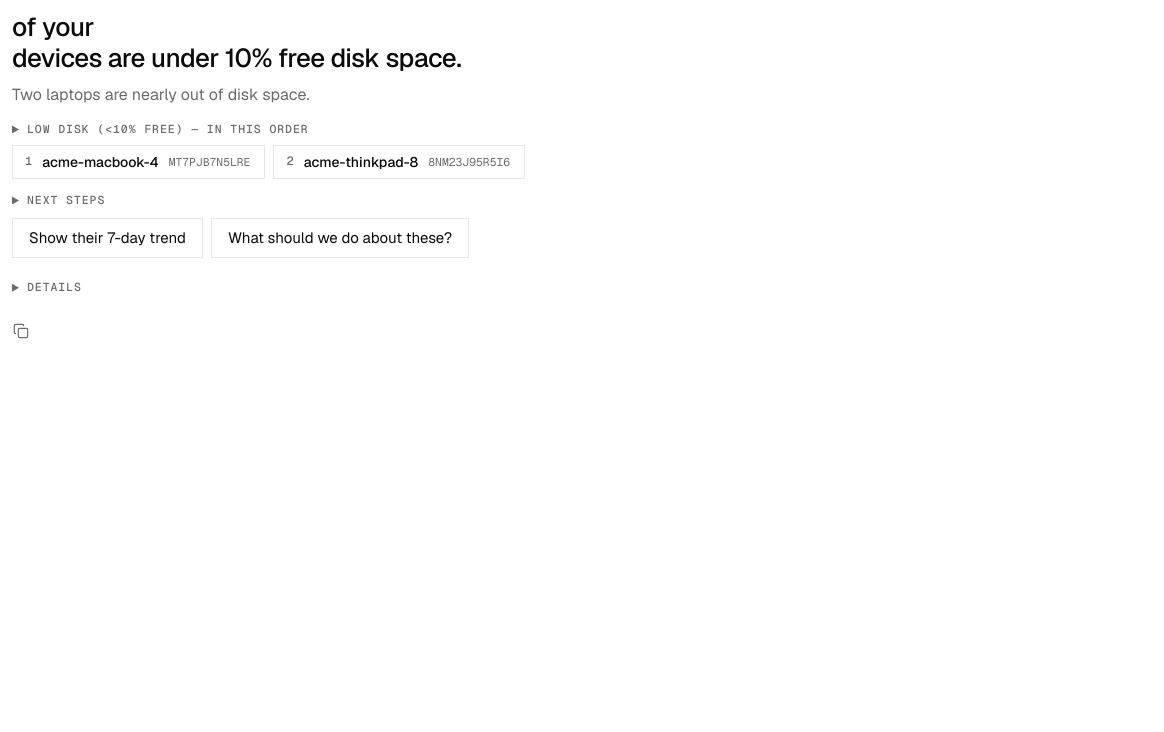
Scenario: an answer › always leads with the headline; a verified explanation adds only its first sentence, the rest and the claims waiting under Details
This screenshot has width=1164, height=732.
Expected: the text "They need attention soon" is not shown
Click the button "Details". click: click(52, 288)
box: x1=12 y1=272 x2=92 y2=304
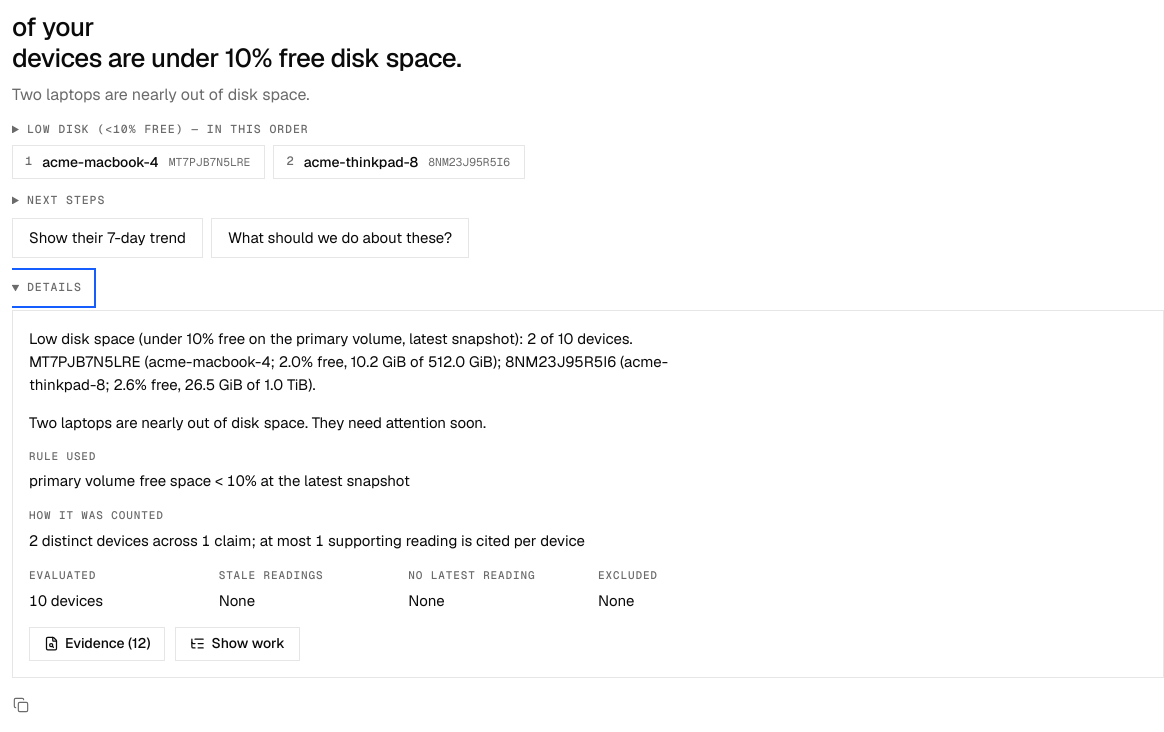
Expected: the text "Low disk space (under 10% free on the primary volume, latest snapshot): 2 of 10 devices. MT7PJB7N5LRE (acme-macbook-4; 2" is shown, x1=29 y1=329 x2=668 y2=394
Expected: the text "Two laptops are nearly out of disk space. They need attention soon." is shown, x1=29 y1=413 x2=486 y2=432
